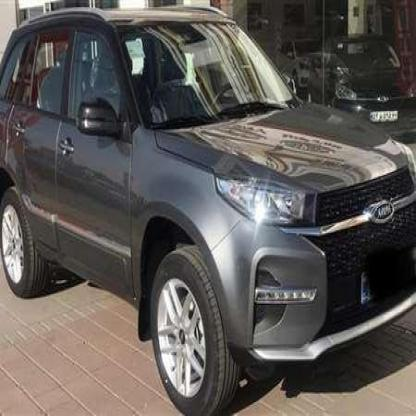Car: (0, 0, 416, 390), (320, 38, 416, 138), (277, 35, 328, 92)
